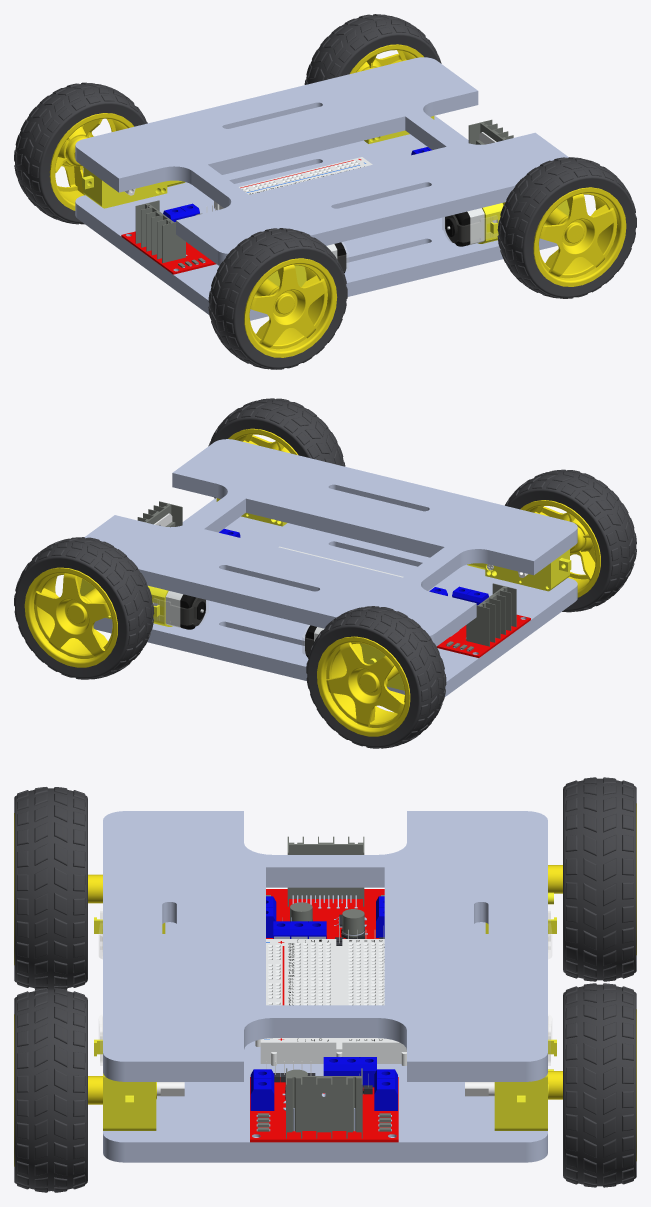
The model's file is Assembly_for_robotic_car-transformed.glb.
3 renders of one model, top to bottom at view 1: azimuth 30°, elevation 25°; view 2: azimuth 150°, elevation 25°; view 3: azimuth 270°, elevation 25°, orthographic. The views are drawn at different scales.
Visible parts, largest first — view 1: Wheel D65x25-3, MotorDCTT-1; view 2: Wheel D65x25-3, MotorDCTT-1; view 3: Wheel D65x25-3, MotorDCTT-1.
Boxes of the visible parts, x1,y1,x2,y2 form: Wheel D65x25-3: [14, 14, 636, 369]; MotorDCTT-1: [336, 215, 497, 271]; Wheel D65x25-3: [14, 398, 636, 748]; MotorDCTT-1: [153, 598, 314, 654]; Wheel D65x25-3: [14, 777, 636, 1192]; MotorDCTT-1: [99, 908, 551, 1064].
Bounding box in the file's own units: 0.2313 × 0.0718 × 0.21.
Materials: 2 (2 with a texture image).
